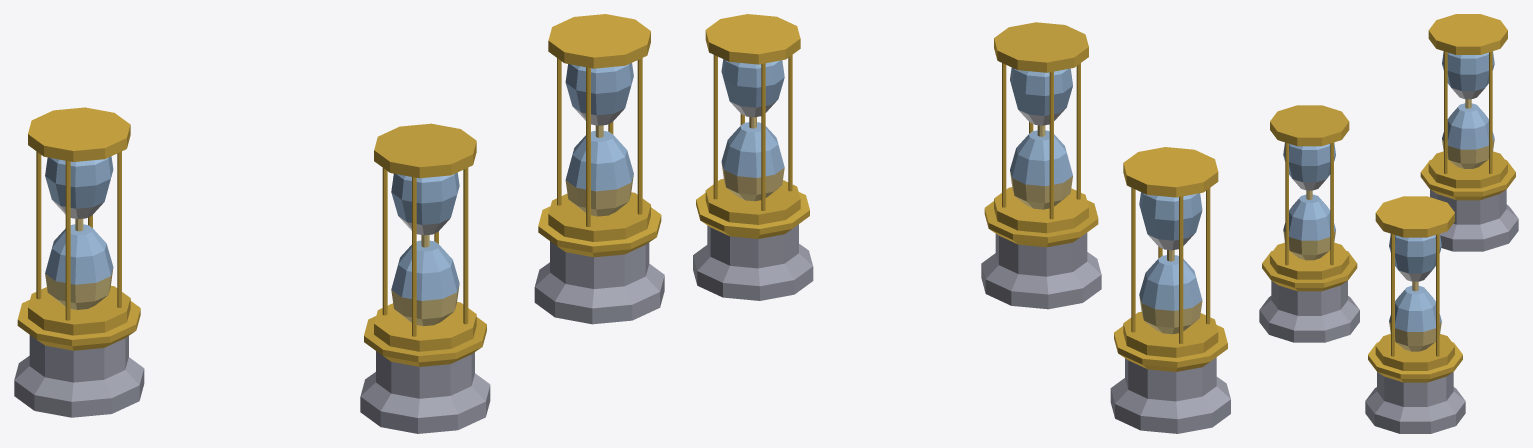
Rendered from Decor_ClockTower_SandTimers.fbx.
3 renders of one model, left to right at view 1: azimuth 30°, elevation 25°; view 2: azimuth 150°, elevation 25°; view 3: azimuth 270°, elevation 25°, orthographic. The views are drawn at different scales.
Parts seen in each view (by area): view 1: SandTimers_Body; view 2: SandTimers_Body; view 3: SandTimers_Body.
Boxes of the visible parts, x1,y1,x2,y2 form: SandTimers_Body: (14,14,664,433); SandTimers_Body: (693,14,1230,433); SandTimers_Body: (1259,14,1518,433).
Size of the model in its own units: 19.6 by 8.2 by 9.6.
